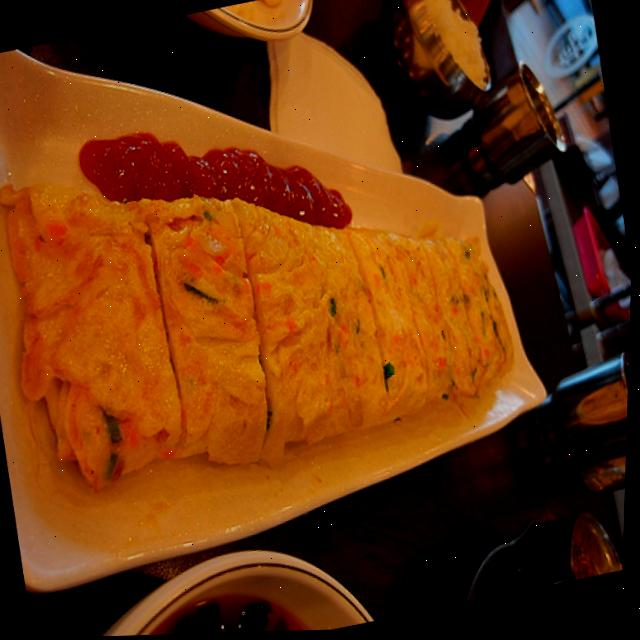鸡蛋料理: (0, 47, 570, 518)
